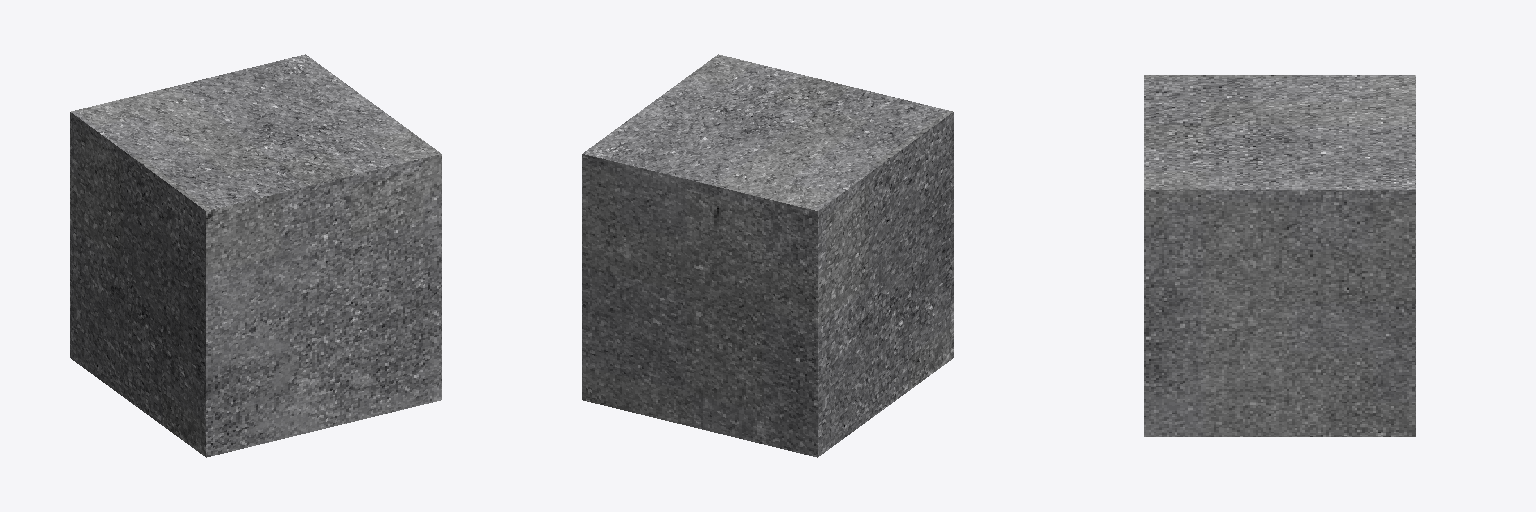
The picture shows the model from 3 angles: view 1: azimuth 30°, elevation 25°; view 2: azimuth 150°, elevation 25°; view 3: azimuth 270°, elevation 25°; orthographic projection.
Visible parts, largest first — view 1: Cube; view 2: Cube; view 3: Cube.
Part boxes in pixels (x1,y1,x2,y2): Cube: (70, 54, 441, 457); Cube: (582, 54, 953, 457); Cube: (1144, 75, 1415, 436).
Bounding box in the file's own units: 2 × 2 × 2.
1 materials, 1 textured.